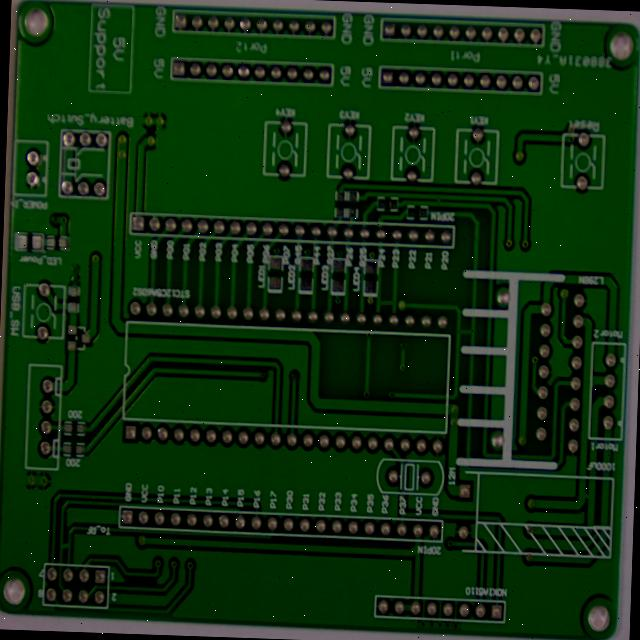short: (381, 301, 411, 329), (462, 335, 490, 358), (54, 558, 76, 581), (593, 507, 610, 528), (441, 199, 458, 218)
